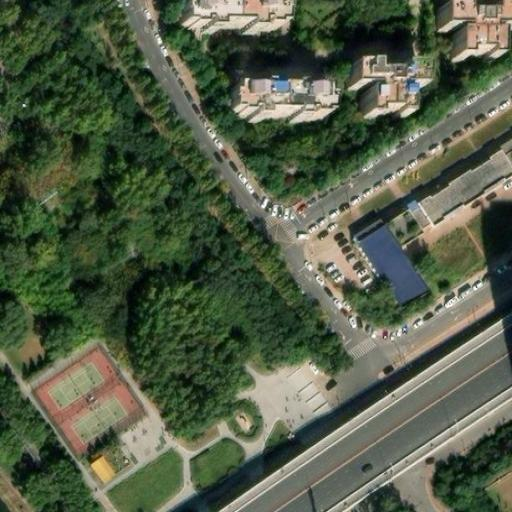building: (418, 141, 512, 224), (356, 222, 428, 309), (346, 67, 420, 113), (437, 13, 511, 59), (234, 88, 328, 120), (181, 4, 275, 36), (281, 358, 330, 413), (384, 200, 433, 246), (86, 446, 119, 481)
